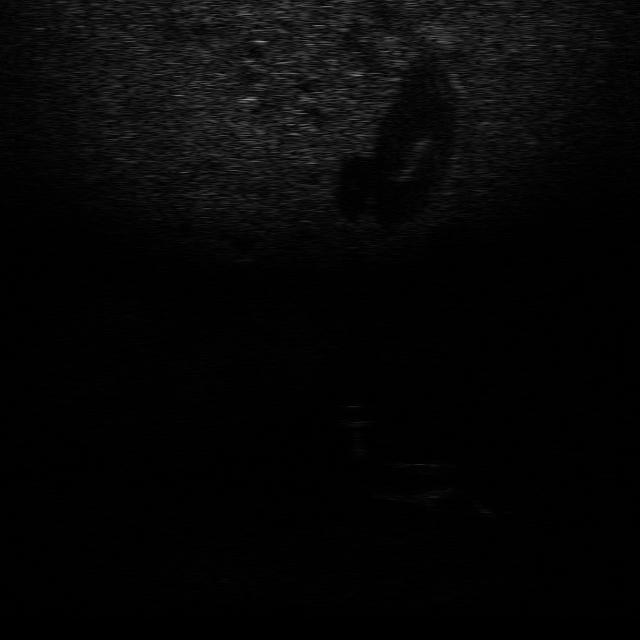ball: (325, 396, 379, 429)
tyre: (366, 459, 464, 506)
